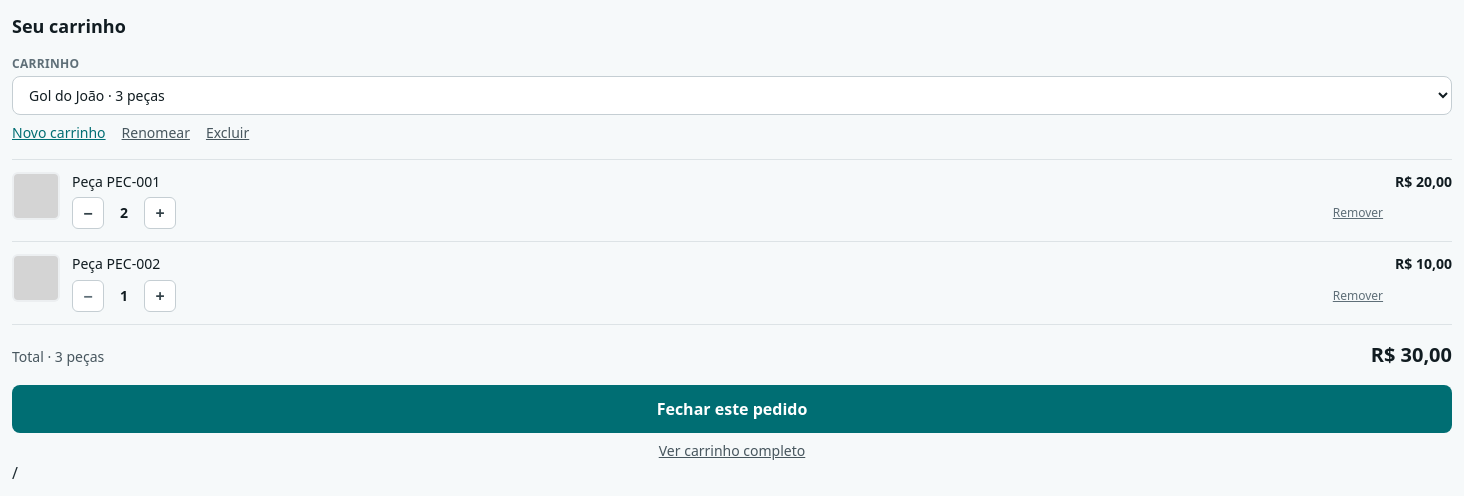
Test case: PainelCarrinho: editar itens › + e − mudam a quantidade no carrinho que esta sendo mostrado
Check: the link "Peça PEC-001" is shown, box [72,172,160,191]
Click the button named "Aumentar quantidade de Peça PEC-001" at {"x": 160, "y": 213}, box [144,197,176,229]
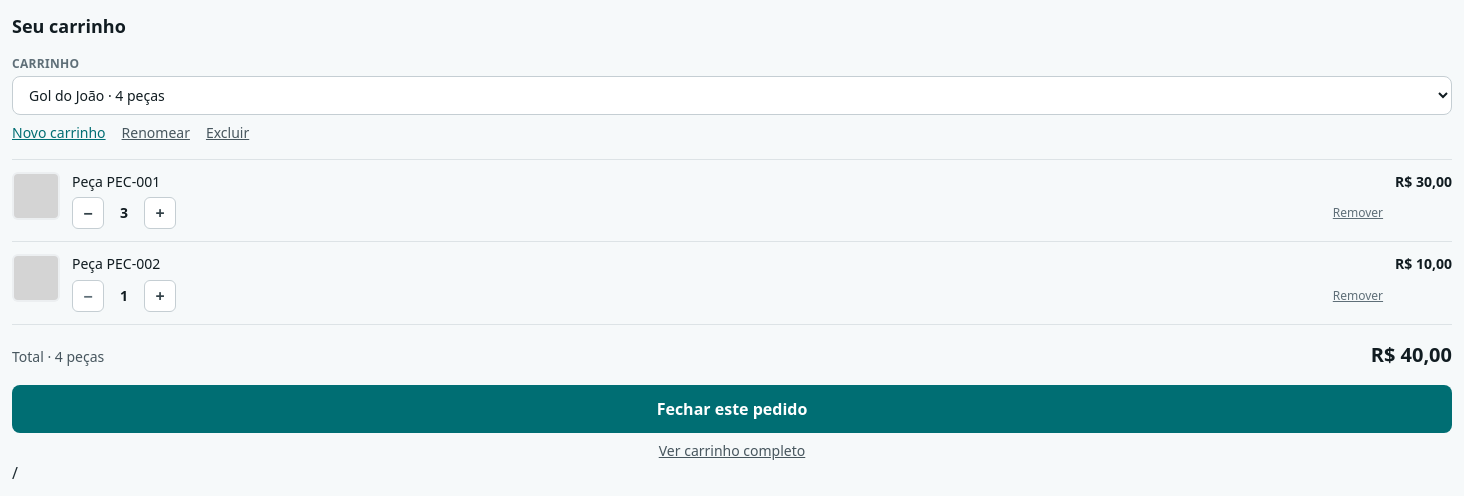
Check: the text named "Quantidade: 3" is shown, box [120,203,128,222]
